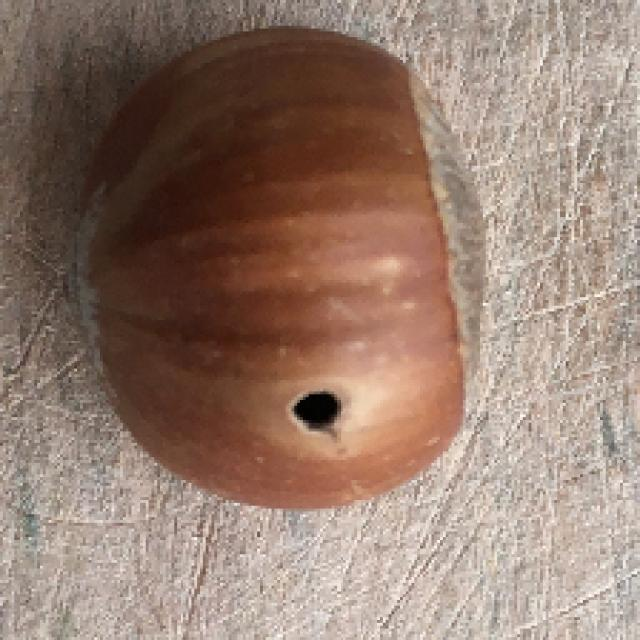damagedHazelnut: (70, 25, 476, 513)
